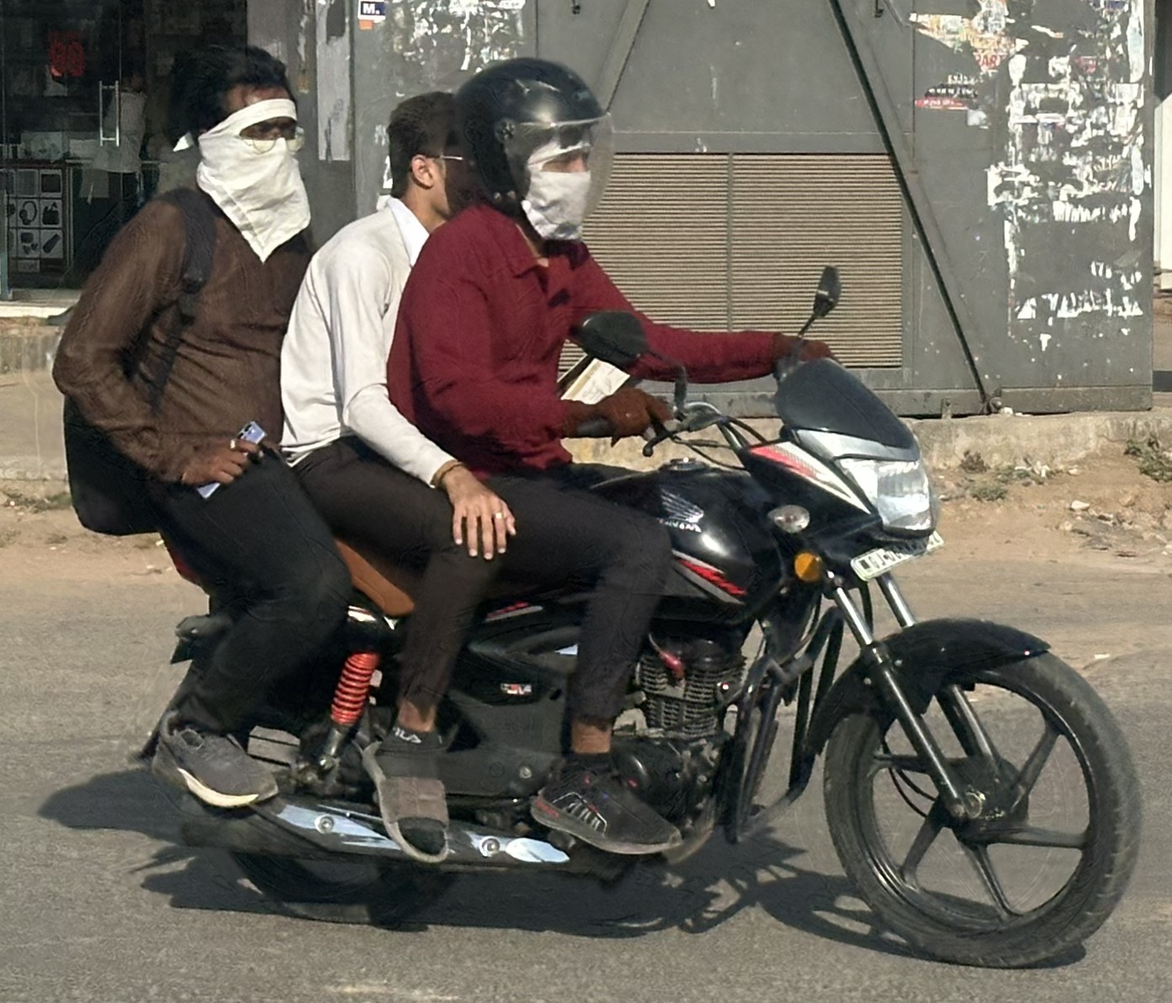BikeWithRider: (35, 28, 1160, 978)
Helmet: (439, 48, 629, 253)
NoHelmet: (151, 34, 327, 230), (367, 79, 499, 234)
